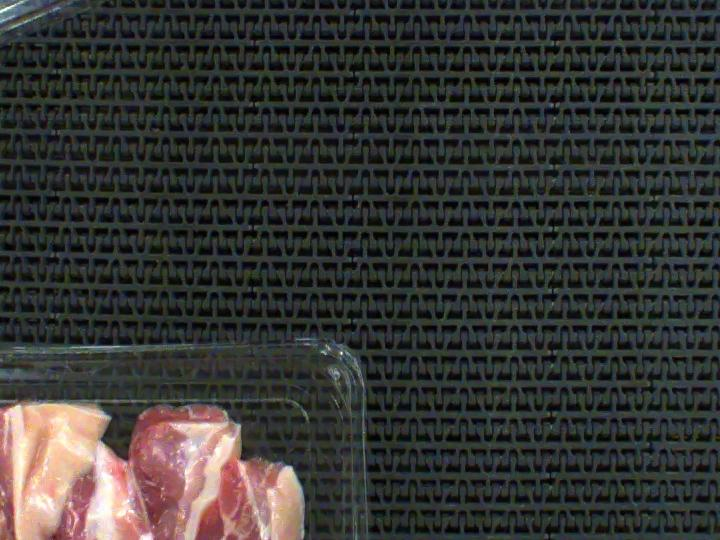twisted-meat: (0, 443, 135, 540)
